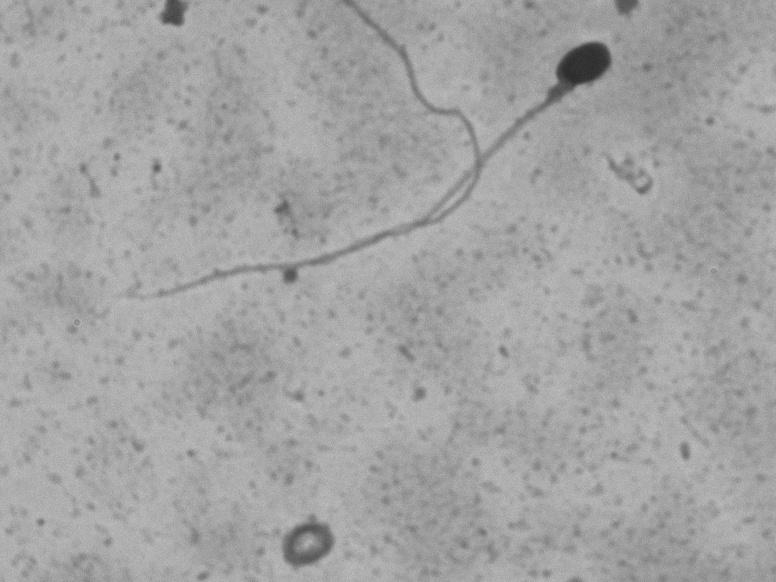Abnormal: (115, 31, 627, 314)
